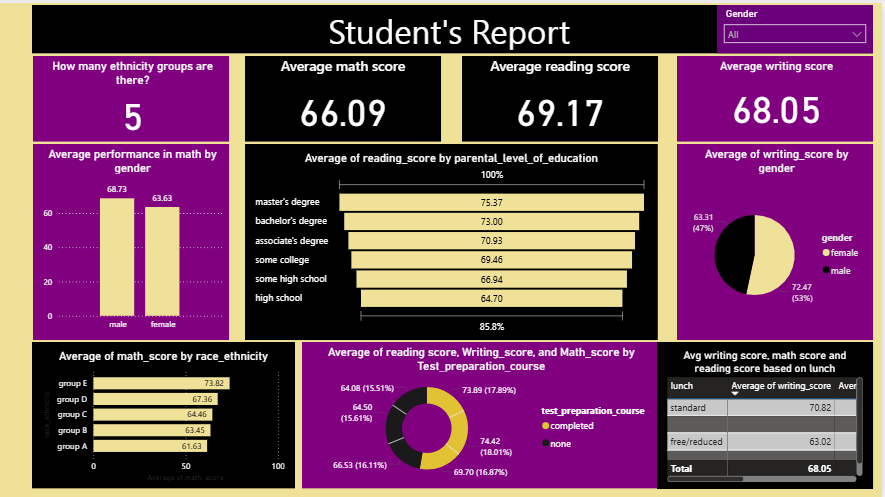

This screenshot's page, from the dashboard's own definition file:
{"tool":"powerbi","page":{"name":"Page 1","canvas":[1280,720],"ordinal":0},"visuals":[{"type":"card","title":"How many ethnicity groups are there?","fields":{"Values":["Count(study_performance.race_ethnicity)"]},"box":[48.7,76.1,283.9,124.3],"z":0},{"type":"card","title":"Average math score","fields":{"Values":["Avg(study_performance.math_score)"]},"box":[356.1,76.1,283.9,124.3],"z":1000},{"type":"card","title":"Average reading score","fields":{"Values":["Avg(study_performance.reading_score)"]},"box":[670.3,76.1,283.9,124.3],"z":2000},{"type":"card","title":"Average writing score","fields":{"Values":["Avg(study_performance.writing_score)"]},"box":[982.7,76.1,283.9,124.3],"z":3000},{"type":"textbox","box":[48.2,2.8,1218.1,70.2],"z":4000},{"type":"columnChart","title":"Average performance in math by gender","fields":{"Category":["study_performance.gender"],"Y":["Avg(study_performance.math_score)"]},"box":[48.7,203.7,283.9,283.9],"z":5000},{"type":"funnel","fields":{"Y":["Avg(study_performance.reading_score)"],"Category":["study_performance.parental_level_of_education"]},"box":[356.1,203.7,598,283.9],"z":6000},{"type":"pieChart","fields":{"Category":["study_performance.gender"],"Y":["Avg(study_performance.writing_score)"]},"box":[982.7,204.3,283.9,283.9],"z":7000},{"type":"barChart","fields":{"Y":["Avg(study_performance.math_score)"],"Category":["study_performance.race_ethnicity"]},"box":[48.2,491.7,381.2,212],"z":8000},{"type":"donutChart","title":"Average of reading score, Writing_score, and Math_score by Test_preparation_course","fields":{"Y":["Avg(study_performance.reading_score)","Avg(study_performance.writing_score)","Avg(study_performance.math_score)"],"Category":["study_performance.test_preparation_course"]},"box":[439.1,491.7,514.8,212],"z":9000},{"type":"pivotTable","title":"Avg writing score, math score and reading score based on lunch","fields":{"Rows":["study_performance.lunch"],"Values":["Avg(study_performance.writing_score)","Avg(study_performance.math_score)","Avg(study_performance.reading_score)"]},"box":[953.9,491.4,312.7,212.8],"z":10000},{"type":"slicer","fields":{"Values":["study_performance.gender"]},"box":[1040.5,2.8,225.7,70.2],"z":11000}]}

Visuals, with their boxes in screenshot pixels (x1, y1, x2, y2), scaled from the page's 1280x720 canvas onto the 885x497 screenshot:
"How many ethnicity groups are there?" card: <region>34, 53, 230, 138</region>
"Average math score" card: <region>246, 53, 442, 138</region>
"Average reading score" card: <region>463, 53, 660, 138</region>
"Average writing score" card: <region>679, 53, 876, 138</region>
textbox: <region>33, 2, 876, 50</region>
"Average performance in math by gender" columnChart: <region>34, 141, 230, 337</region>
funnel - Avg(study_performance.reading_score) x study_performance.parental_level_of_education: <region>246, 141, 660, 337</region>
pieChart - study_performance.gender x Avg(study_performance.writing_score): <region>679, 141, 876, 337</region>
barChart - Avg(study_performance.math_score) x study_performance.race_ethnicity: <region>33, 339, 297, 486</region>
"Average of reading score, Writing_score, and Math_score by Test_preparation_course" donutChart: <region>304, 339, 660, 486</region>
"Avg writing score, math score and reading score based on lunch" pivotTable: <region>660, 339, 876, 486</region>
slicer - study_performance.gender: <region>719, 2, 875, 50</region>
